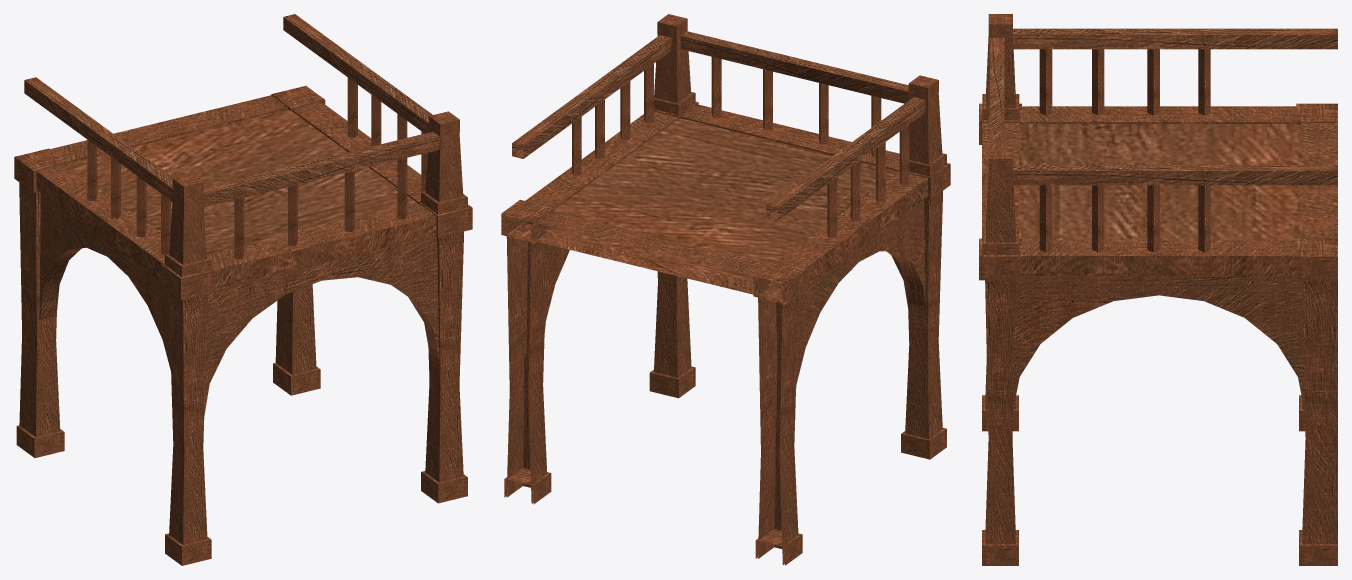
The model's file is fanasty_mod_balcony03.fbx.
The picture shows the model from 3 angles, left to right: view 1: azimuth 30°, elevation 25°; view 2: azimuth 150°, elevation 25°; view 3: azimuth 270°, elevation 25°; orthographic projection. The views are drawn at different scales.
Parts seen in each view (by area): view 1: balcony_03; view 2: balcony_03; view 3: balcony_03.
Part boxes in pixels (left/top/right/bottom): balcony_03: left=14, top=14, right=472, bottom=565; balcony_03: left=501, top=14, right=950, bottom=565; balcony_03: left=979, top=14, right=1337, bottom=565.
Size of the model in its own units: 3.69 by 4.55 by 3.66.
